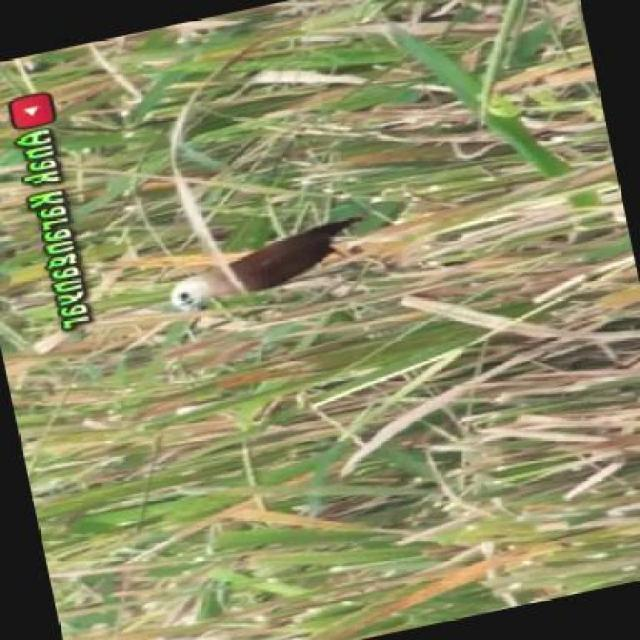Bird: (169, 214, 365, 315)
